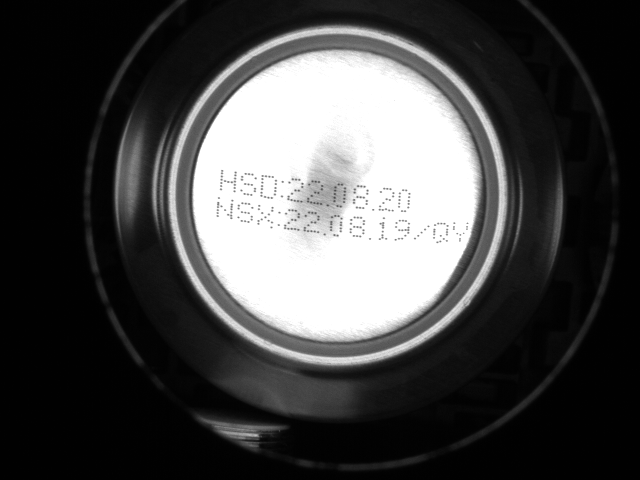/: (418, 221, 439, 244)
0: (330, 179, 355, 210), (331, 212, 356, 238), (401, 187, 420, 215)
1: (376, 219, 393, 246)
2: (374, 184, 399, 214), (283, 176, 308, 204), (305, 177, 328, 206), (282, 206, 308, 231), (307, 209, 324, 235)
8: (350, 215, 374, 240), (358, 184, 377, 211)
9: (397, 219, 421, 247)
D: (261, 174, 283, 200)
H: (218, 170, 241, 194)
N: (215, 198, 240, 224)
Q: (436, 221, 457, 245)
S: (239, 172, 262, 201), (240, 202, 260, 227)
X: (262, 206, 279, 229)
Y: (455, 219, 476, 244)
